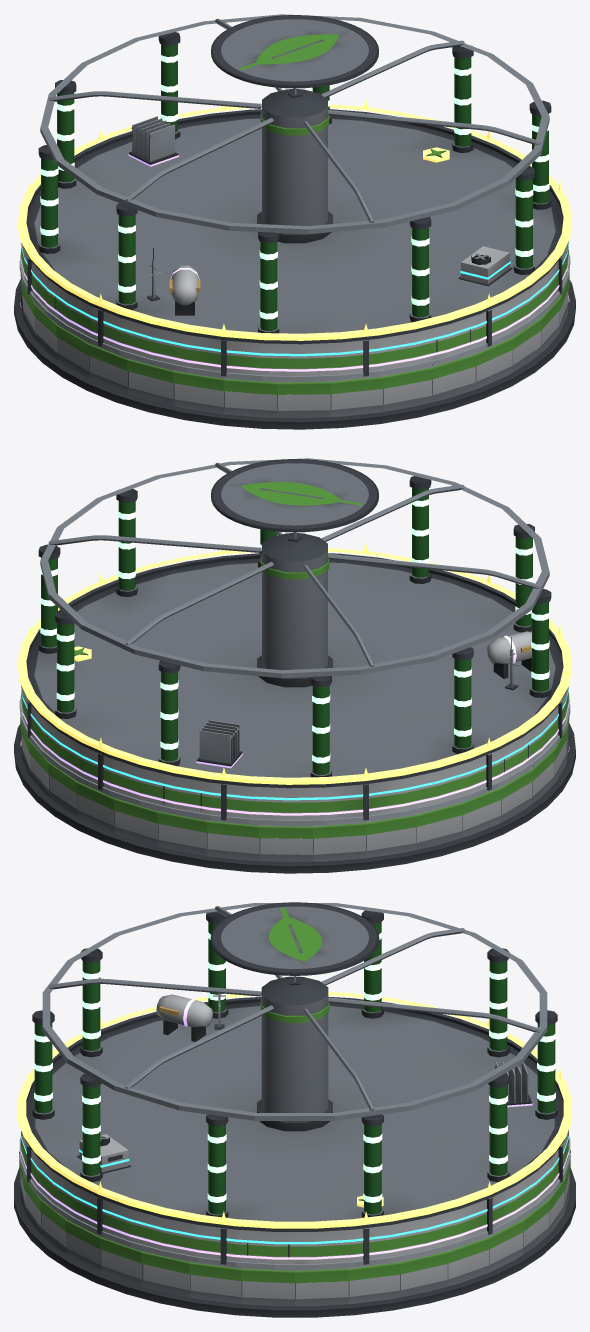
File: algae_bioreactor_l_far.glb
3 views of the same model, one above another, from view 1: azimuth 30°, elevation 25°; view 2: azimuth 150°, elevation 25°; view 3: azimuth 270°, elevation 25° (orthographic).
Visible parts, largest first — view 1: Roof, Base, L5, L4, L2, L3; view 2: Roof, Base, L5, L4, L2, L3; view 3: Roof, Base, L5, L4, L2, L3.
Boxes of the visible parts, x1,y1,x2,y2 form: Roof: (21, 14, 568, 376); Base: (14, 272, 575, 429); L5: (18, 88, 571, 340); L4: (20, 116, 569, 371); L2: (19, 248, 570, 381); L3: (20, 241, 568, 356); Roof: (21, 458, 568, 820); Base: (14, 716, 575, 873); L5: (18, 532, 571, 784); L4: (20, 631, 569, 815); L2: (19, 637, 570, 825); L3: (21, 685, 569, 800); Roof: (21, 902, 568, 1264); Base: (14, 1150, 575, 1317); L5: (18, 976, 571, 1228); L4: (20, 994, 569, 1259); L2: (19, 977, 570, 1269); L3: (20, 1134, 569, 1244).
Bounding box in the file's own units: 17.16 × 8.8 × 17.16.
